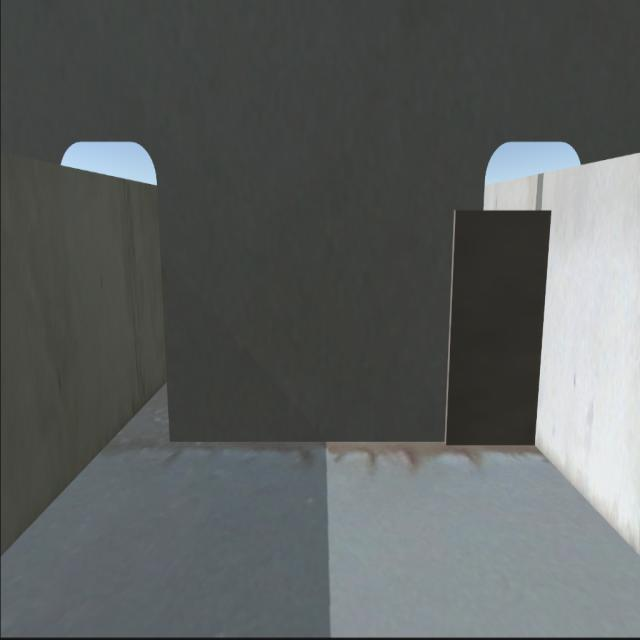fillet_yong_jeop_jang: (171, 436, 537, 452)
longi_yong_jeop_jang: (542, 215, 553, 460)
plate_CP01: (453, 207, 542, 442)
